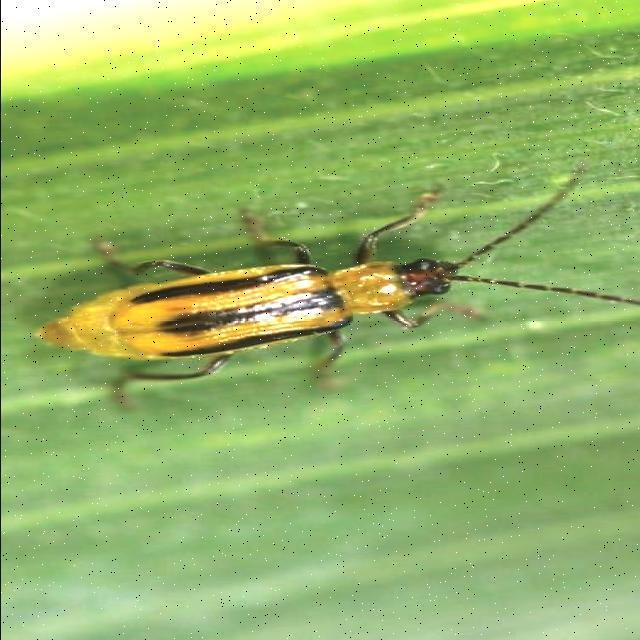trips: (34, 164, 640, 414)
